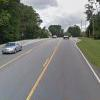Car: (1, 36, 22, 58)
